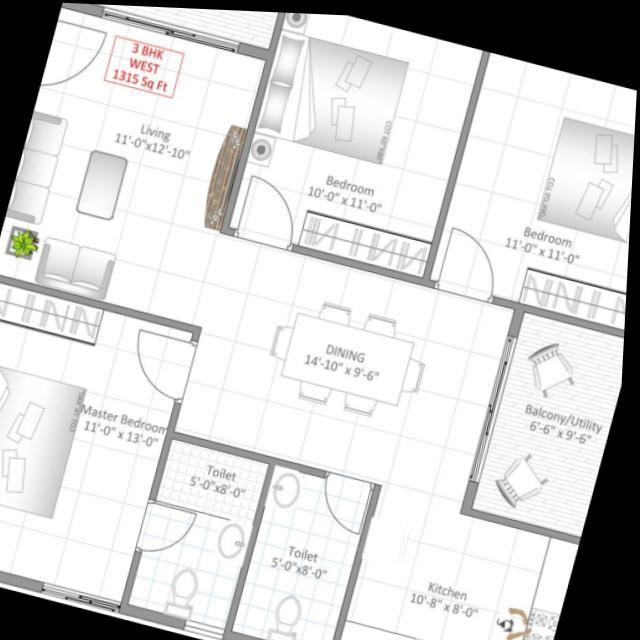Balcony-Sitout: (59, 2, 285, 61)
Bedroom: (223, 10, 490, 281), (421, 44, 638, 331)
Bedroom with Toilet: (0, 273, 277, 632)
Dining: (259, 286, 438, 427)
Kitchen: (336, 478, 586, 640)
Living: (0, 2, 277, 332)
Toilet: (123, 429, 281, 638), (230, 452, 388, 640)
Utility: (461, 295, 628, 538)
